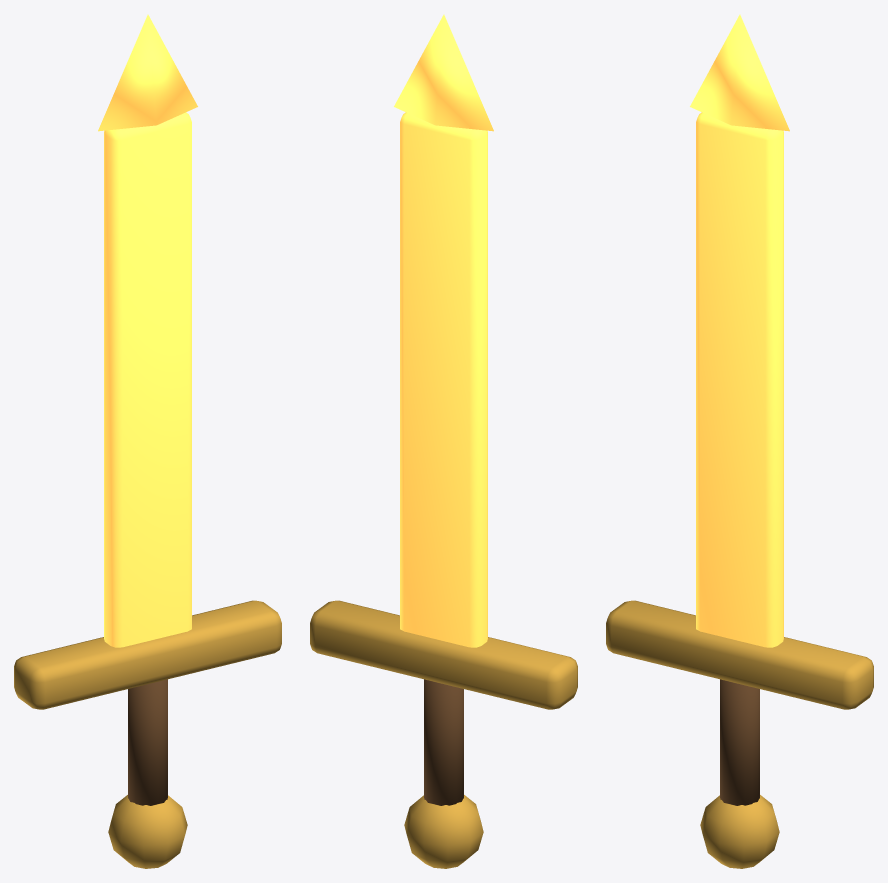
File: loot_sword.glb
3 views of the same model, side by side, from view 1: azimuth 30°, elevation 25°; view 2: azimuth 150°, elevation 25°; view 3: azimuth 330°, elevation 25° (orthographic).
Parts seen in each view (by area): view 1: Lamina, Guarda, Ponta, Cabo, Pomo; view 2: Lamina, Guarda, Ponta, Cabo, Pomo; view 3: Lamina, Guarda, Ponta, Cabo, Pomo.
Boxes of the visible parts, <box> form: Lamina: <box>104,112,191,647</box>; Guarda: <box>14,600,281,709</box>; Ponta: <box>98,14,197,131</box>; Cabo: <box>128,679,167,805</box>; Pomo: <box>108,795,187,868</box>; Lamina: <box>400,112,487,647</box>; Guarda: <box>310,600,577,709</box>; Ponta: <box>394,14,493,131</box>; Cabo: <box>424,679,463,805</box>; Pomo: <box>404,795,483,868</box>; Lamina: <box>696,112,783,647</box>; Guarda: <box>606,600,873,709</box>; Ponta: <box>690,14,789,131</box>; Cabo: <box>720,679,759,805</box>; Pomo: <box>700,795,779,868</box>.
Bounding box in the file's own units: 0.5 × 1.62 × 0.14.
